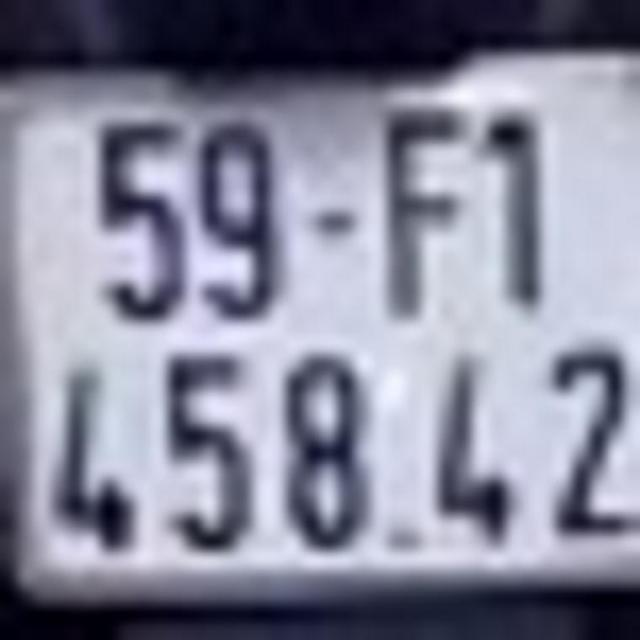1: (480, 109, 549, 308)
2: (552, 346, 636, 536)
4: (432, 352, 517, 545), (54, 371, 136, 548)
5: (99, 122, 189, 320), (162, 351, 252, 548)
8: (280, 352, 370, 551)
9: (199, 122, 273, 321)
F: (380, 104, 470, 316)
